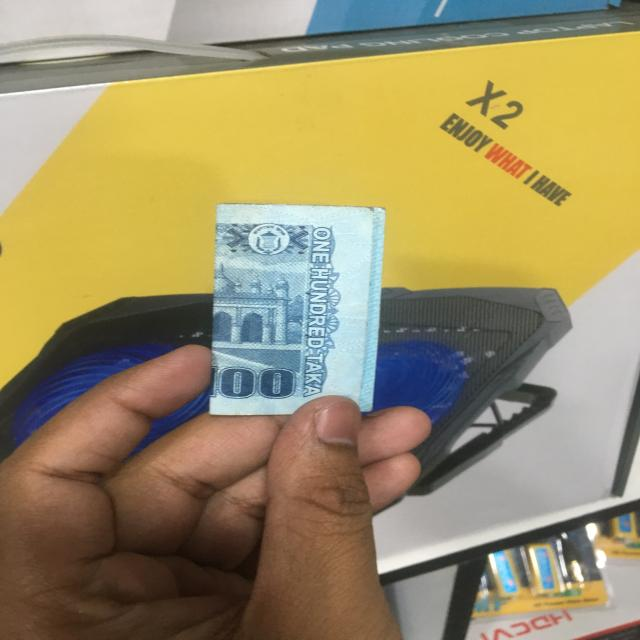Taka: (212, 202, 376, 417)
